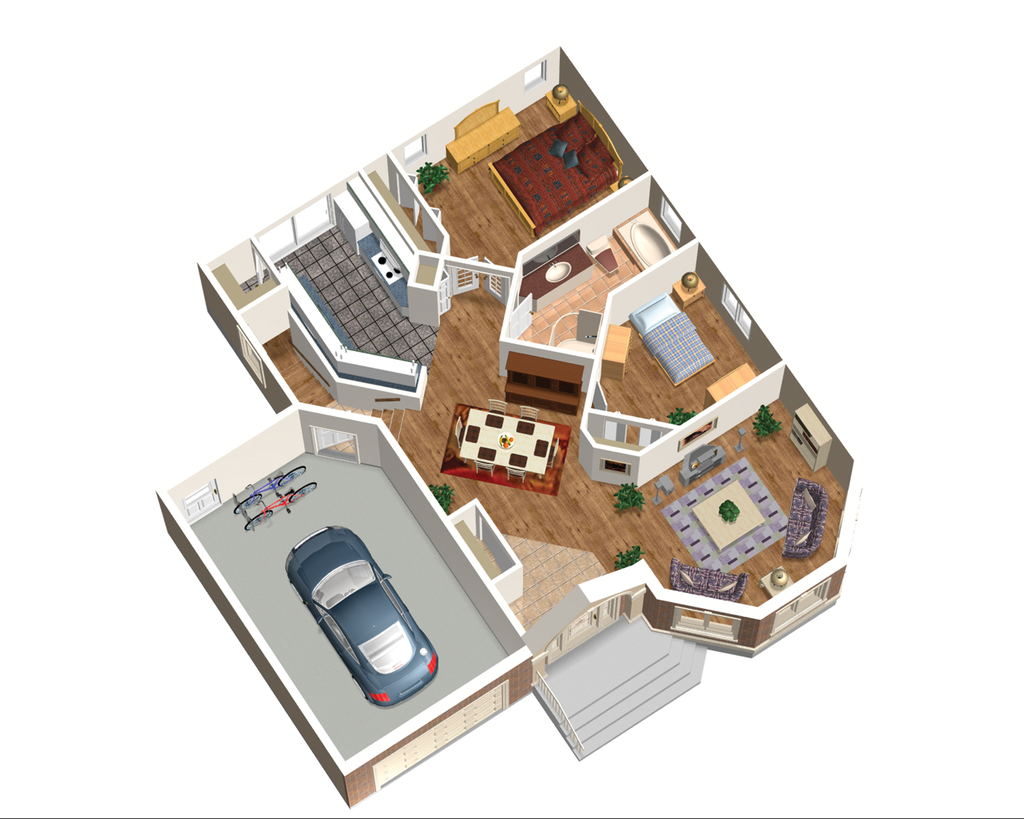bed: (487, 86, 642, 232), (634, 299, 721, 385)
dining_table: (439, 395, 573, 503)
large_sofa: (659, 543, 752, 604), (782, 474, 840, 560)
sink: (369, 243, 411, 296)
small_sink: (525, 251, 586, 295)
tub: (615, 204, 678, 270)
window: (773, 575, 835, 633), (676, 603, 742, 651)
